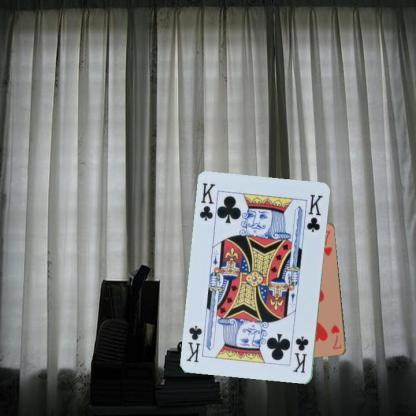7h: (328, 322, 343, 351)
Kc: (197, 180, 217, 223), (290, 334, 310, 374)
